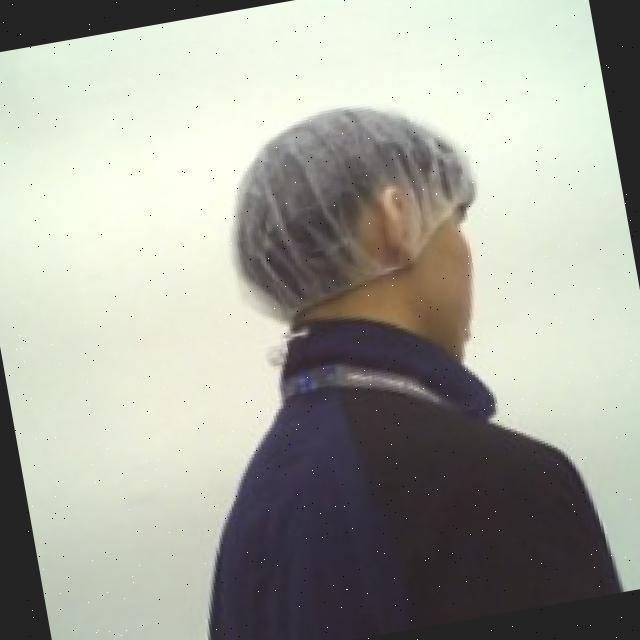gloves: (206, 79, 501, 338)
